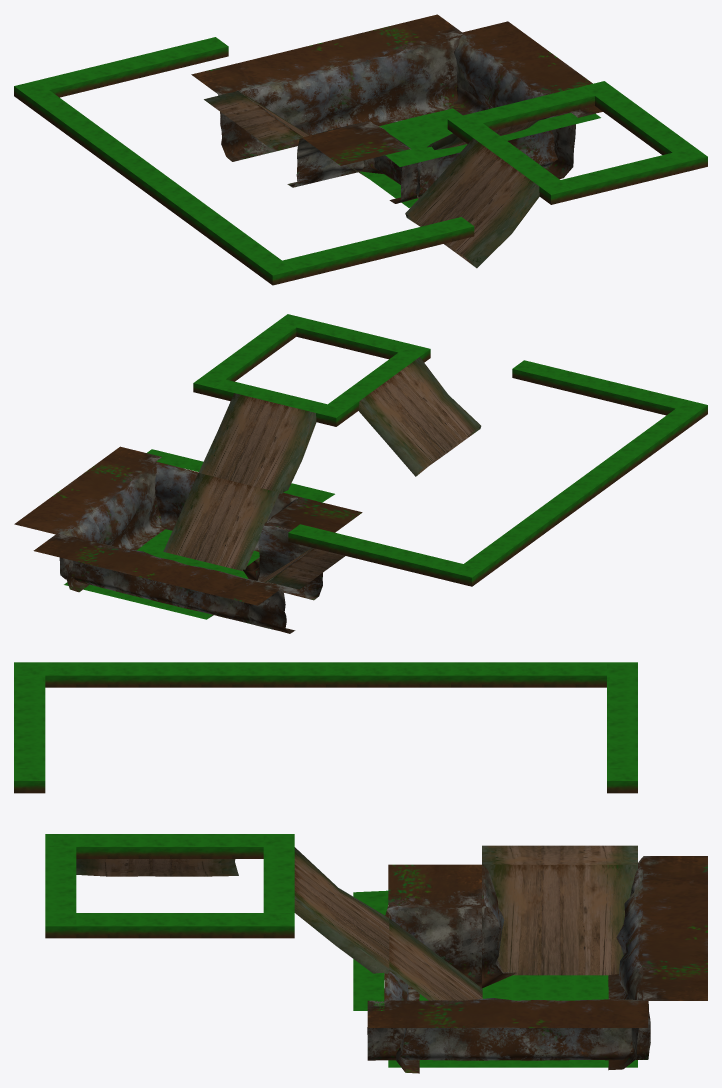
The model's file is Stage_Block_4_2.fbx.
3 views of the same model, one above another, from view 1: azimuth 30°, elevation 25°; view 2: azimuth 150°, elevation 25°; view 3: azimuth 270°, elevation 25° (orthographic). The views are drawn at different scales.
Parts seen in each view (by area): view 1: Stage_Block_4_2_1, Stage_Block_4_2_2; view 2: Stage_Block_4_2_1, Stage_Block_4_2_2; view 3: Stage_Block_4_2_1, Stage_Block_4_2_2.
Part boxes in pixels (bbox=[...]): Stage_Block_4_2_1: bbox=[191, 14, 707, 268]; Stage_Block_4_2_2: bbox=[14, 37, 474, 285]; Stage_Block_4_2_1: bbox=[14, 314, 481, 633]; Stage_Block_4_2_2: bbox=[288, 360, 707, 586]; Stage_Block_4_2_1: bbox=[45, 834, 707, 1073]; Stage_Block_4_2_2: bbox=[14, 662, 637, 793].
Bounding box in the file's own units: 4448 × 1002 × 4448.
3 materials, 3 textured.
